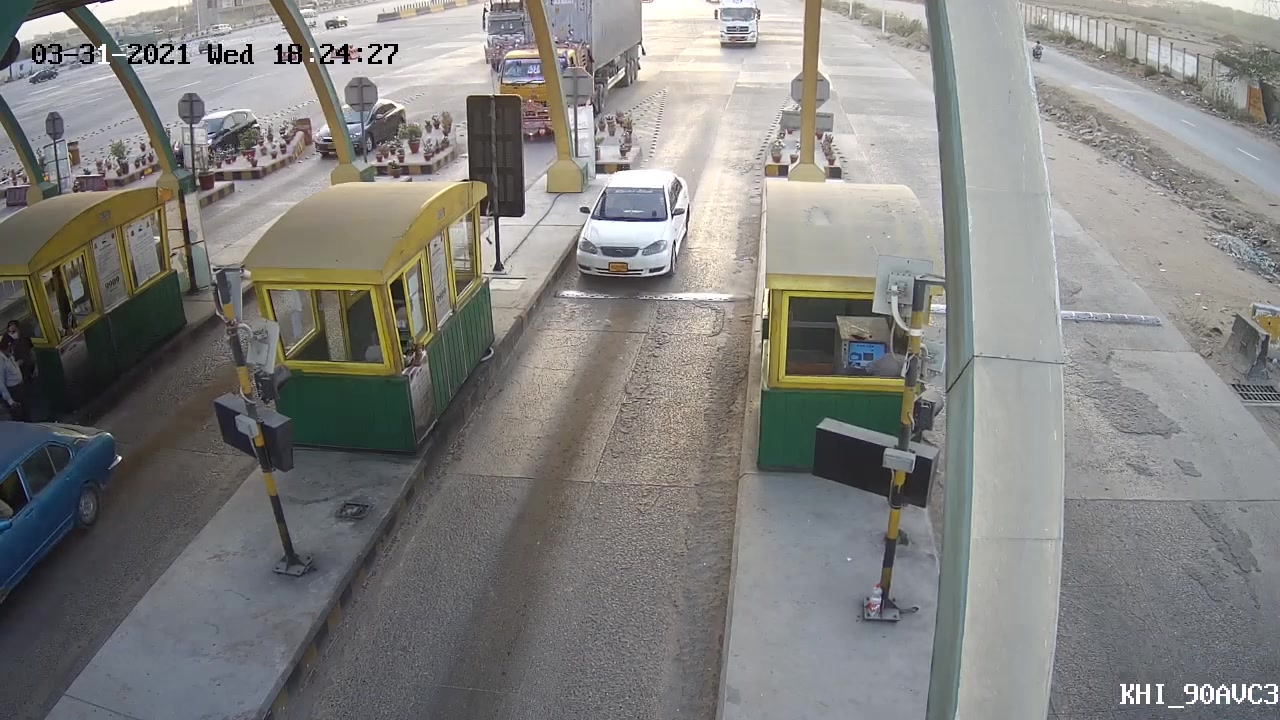F1: (574, 163, 696, 282)
